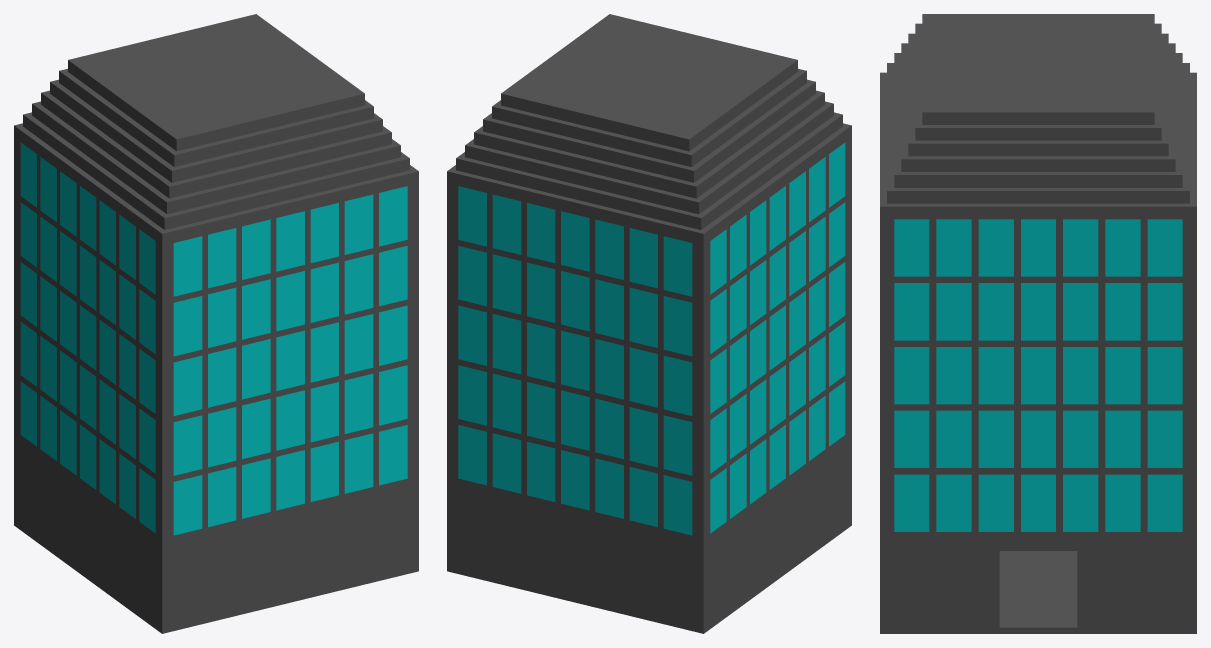
The model's file is little-tower-2.obj.
3 renders of one model, left to right at view 1: azimuth 30°, elevation 25°; view 2: azimuth 150°, elevation 25°; view 3: azimuth 270°, elevation 25°, orthographic. The views are drawn at different scales.
Size of the model in its own units: 45 by 79 by 45.
1 material, 1 textured.
